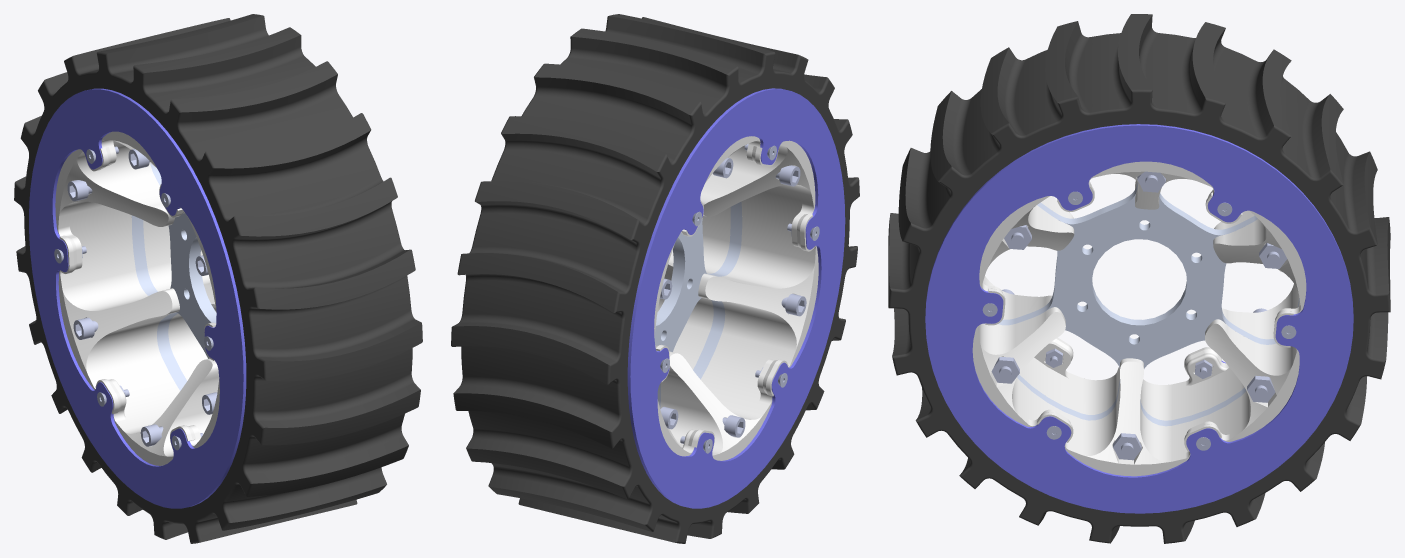
Rendered from Back Left Wheel.glb.
3 views of the same model, side by side, from view 1: azimuth 30°, elevation 25°; view 2: azimuth 150°, elevation 25°; view 3: azimuth 270°, elevation 25° (orthographic).
Parts seen in each view (by area): view 1: Back Left Wheel; view 2: Back Left Wheel; view 3: Back Left Wheel.
Boxes of the visible parts, x1,y1,x2,y2 form: Back Left Wheel: (14,14,422,543); Back Left Wheel: (451,14,859,543); Back Left Wheel: (888,14,1390,543).
Size of the model in its own units: 0.0744 by 0.1893 by 0.1895.
